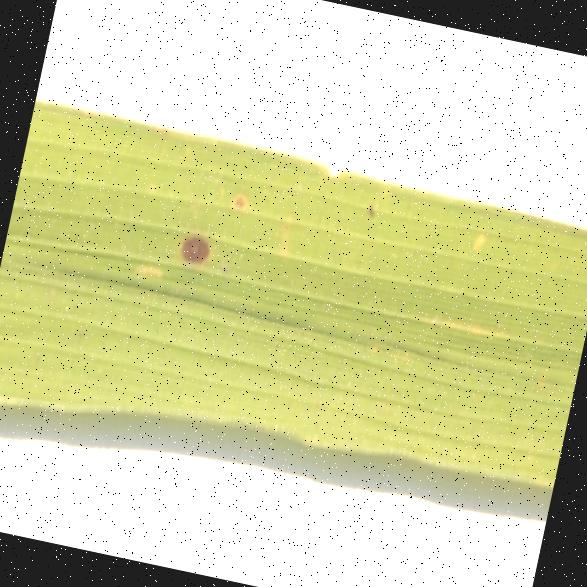Brown_Spot: (163, 191, 225, 283)
